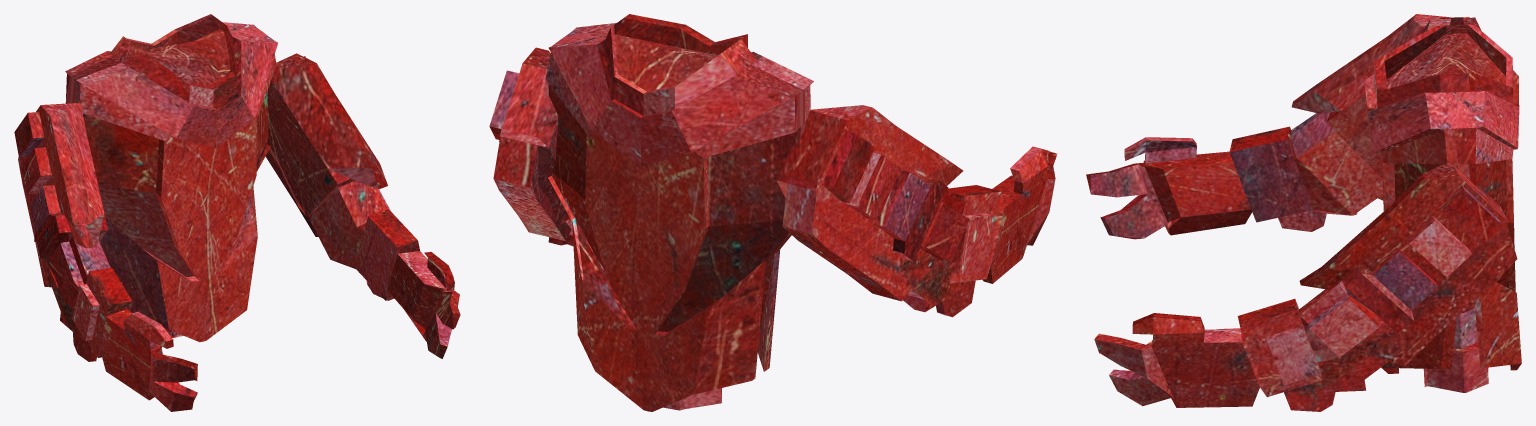
File: bullChest.fbx
3 views of the same model, side by side, from view 1: azimuth 30°, elevation 25°; view 2: azimuth 150°, elevation 25°; view 3: azimuth 270°, elevation 25° (orthographic). The views are drawn at different scales.
Visible parts, largest first — view 1: OxChestplate; view 2: OxChestplate; view 3: OxChestplate.
Boxes of the visible parts, x1=… form: OxChestplate: x1=14, y1=14, x2=460, y2=411; OxChestplate: x1=489, y1=14, x2=1057, y2=411; OxChestplate: x1=1086, y1=14, x2=1521, y2=411.
Size of the model in its own units: 310 by 269 by 321.
